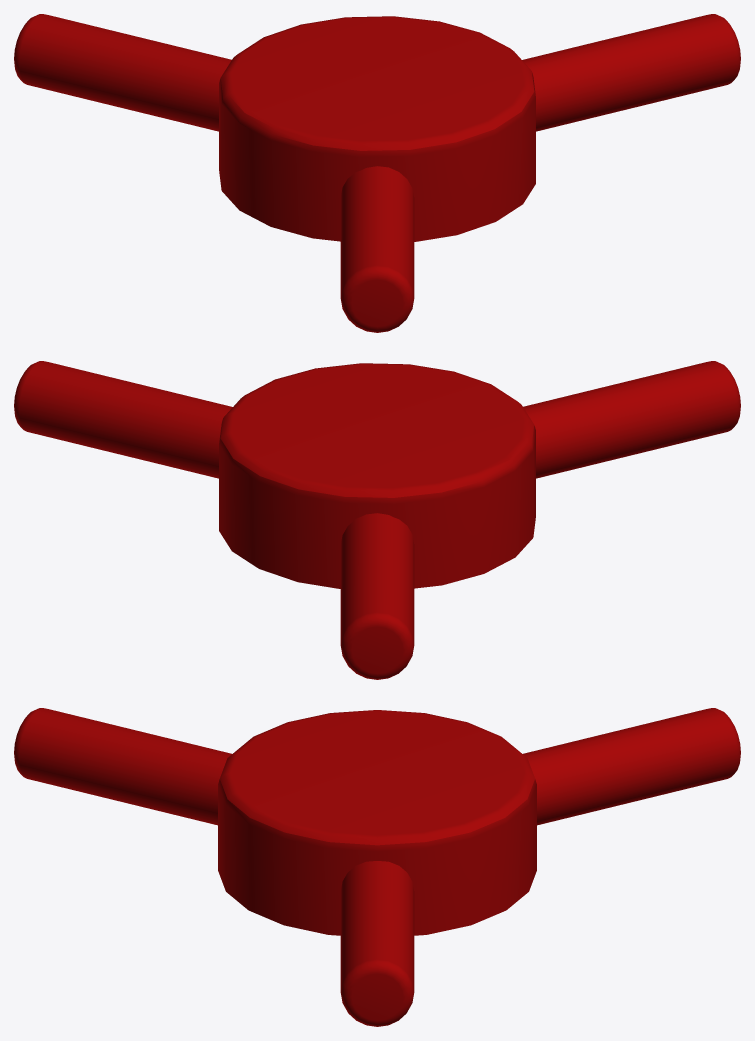
Rendered from Saw_A_Triple.fbx.
3 views of the same model, one above another, from view 1: azimuth 30°, elevation 25°; view 2: azimuth 150°, elevation 25°; view 3: azimuth 270°, elevation 25° (orthographic).
Visible parts, largest first — view 1: Saw_A_Triple; view 2: Saw_A_Triple; view 3: Saw_A_Triple.
Part boxes in pixels (bbox=[...]): Saw_A_Triple: bbox=[14, 14, 740, 332]; Saw_A_Triple: bbox=[14, 361, 740, 679]; Saw_A_Triple: bbox=[14, 708, 740, 1026].
Size of the model in its own units: 117 by 19.99 by 135.
